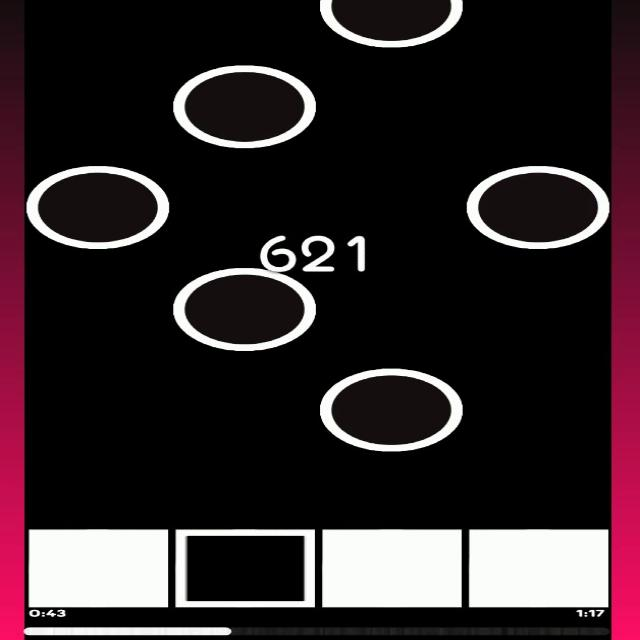note: (170, 266, 318, 351), (26, 166, 170, 251), (318, 369, 462, 454), (173, 64, 314, 148), (466, 167, 608, 249), (318, 0, 468, 49)
